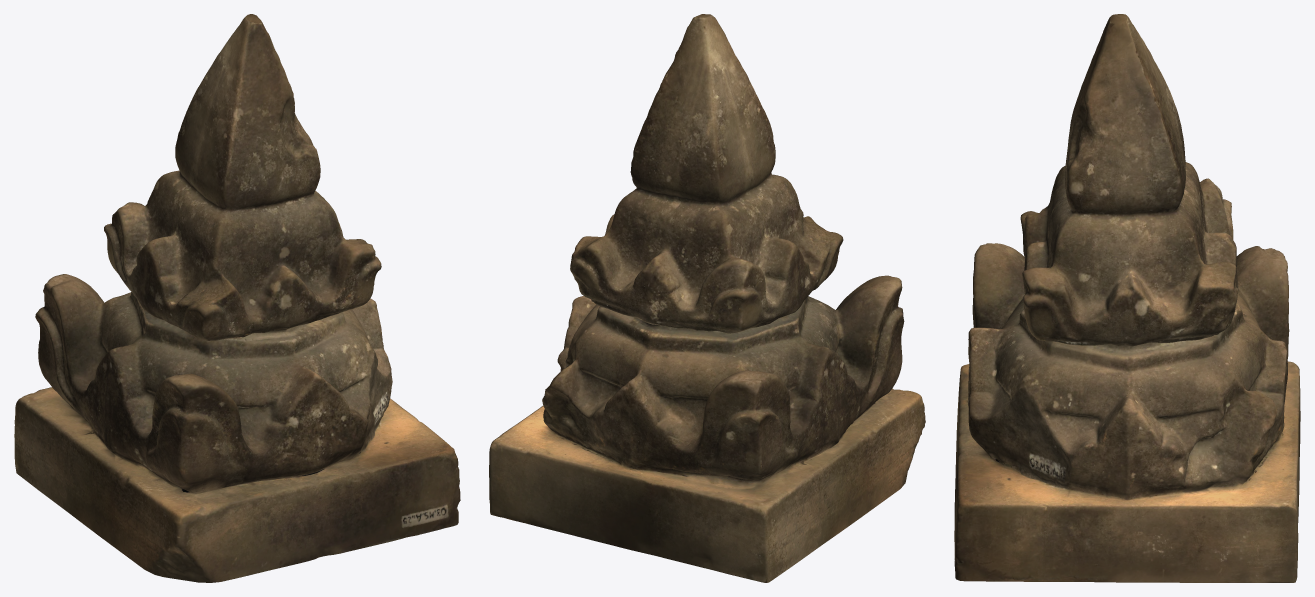
The model's file is MysonMyseum_dinhthapgocbangsathachA1_final.glb.
The picture shows the model from 3 angles, left to right: view 1: azimuth 30°, elevation 25°; view 2: azimuth 150°, elevation 25°; view 3: azimuth 270°, elevation 25°; orthographic projection. The views are drawn at different scales.
Size of the model in its own units: 0.5802 by 0.9225 by 0.5794.
Materials: 1 (1 with a texture image).
